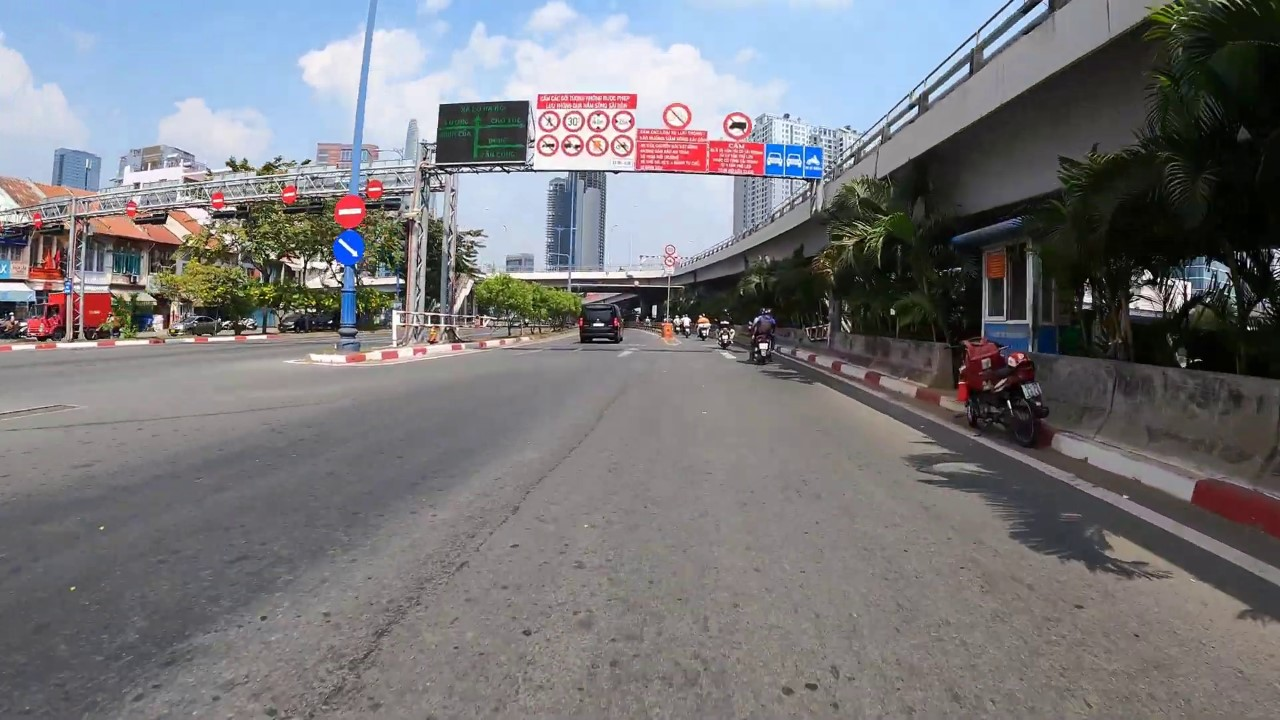cam_nguoc_chieu: (333, 195, 366, 228), (366, 179, 383, 201), (281, 185, 297, 204), (211, 190, 225, 210), (125, 200, 137, 218), (33, 212, 43, 229)
huong_phai_di_vong: (332, 230, 365, 266)
